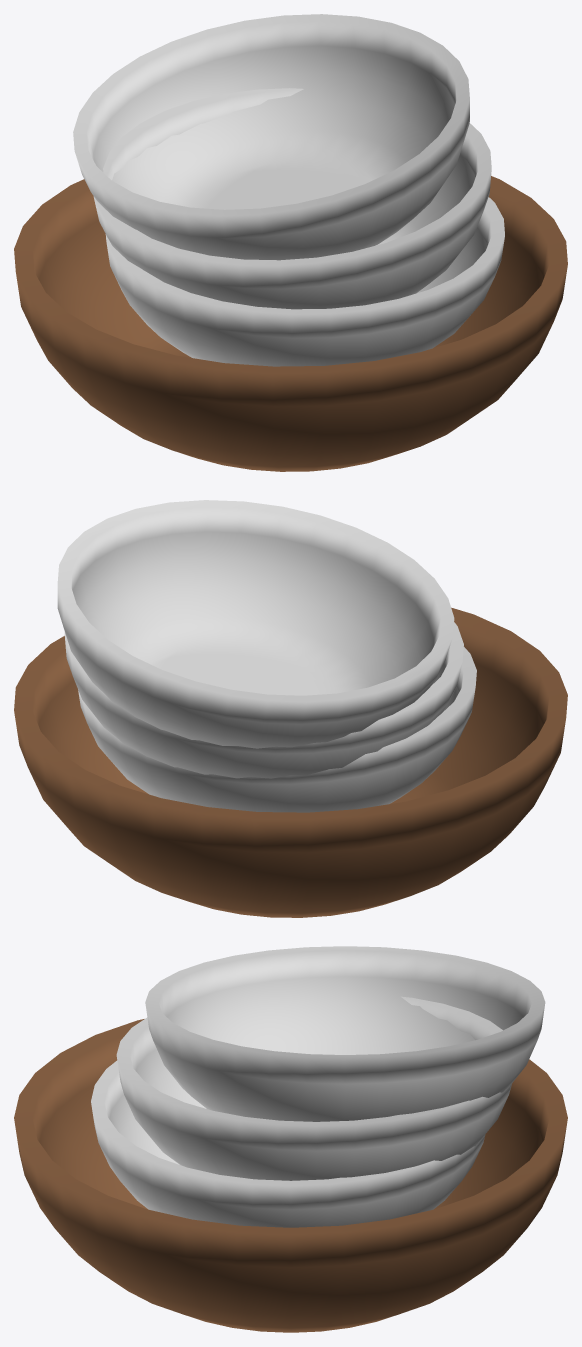
File: Cocina Pila de bowls.fbx
3 renders of one model, top to bottom at view 1: azimuth 30°, elevation 25°; view 2: azimuth 150°, elevation 25°; view 3: azimuth 270°, elevation 25°, orthographic.
Parts seen in each view (by area): view 1: Cocina pila de bowls; view 2: Cocina pila de bowls; view 3: Cocina pila de bowls.
Boxes of the visible parts, x1,y1,x2,y2 form: Cocina pila de bowls: (14, 14, 567, 471); Cocina pila de bowls: (14, 500, 567, 917); Cocina pila de bowls: (14, 946, 567, 1332).
Bounding box in the file's own units: 35.41 × 20.94 × 35.41.
